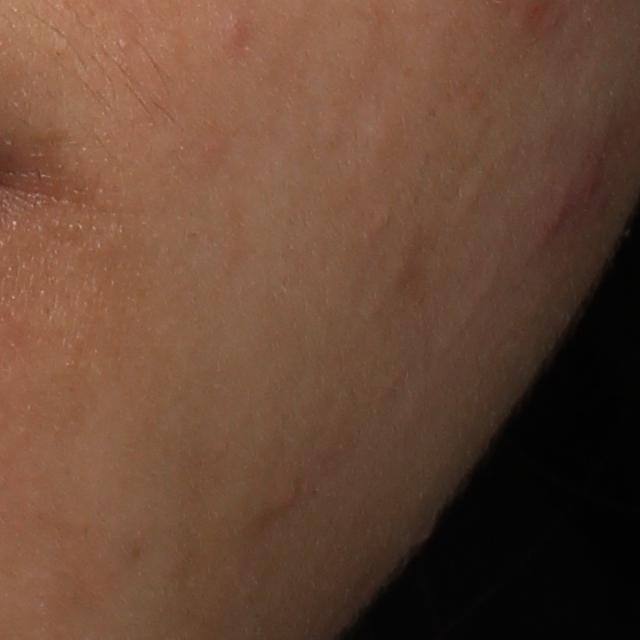papule: (263, 475, 303, 522), (217, 12, 251, 62)
